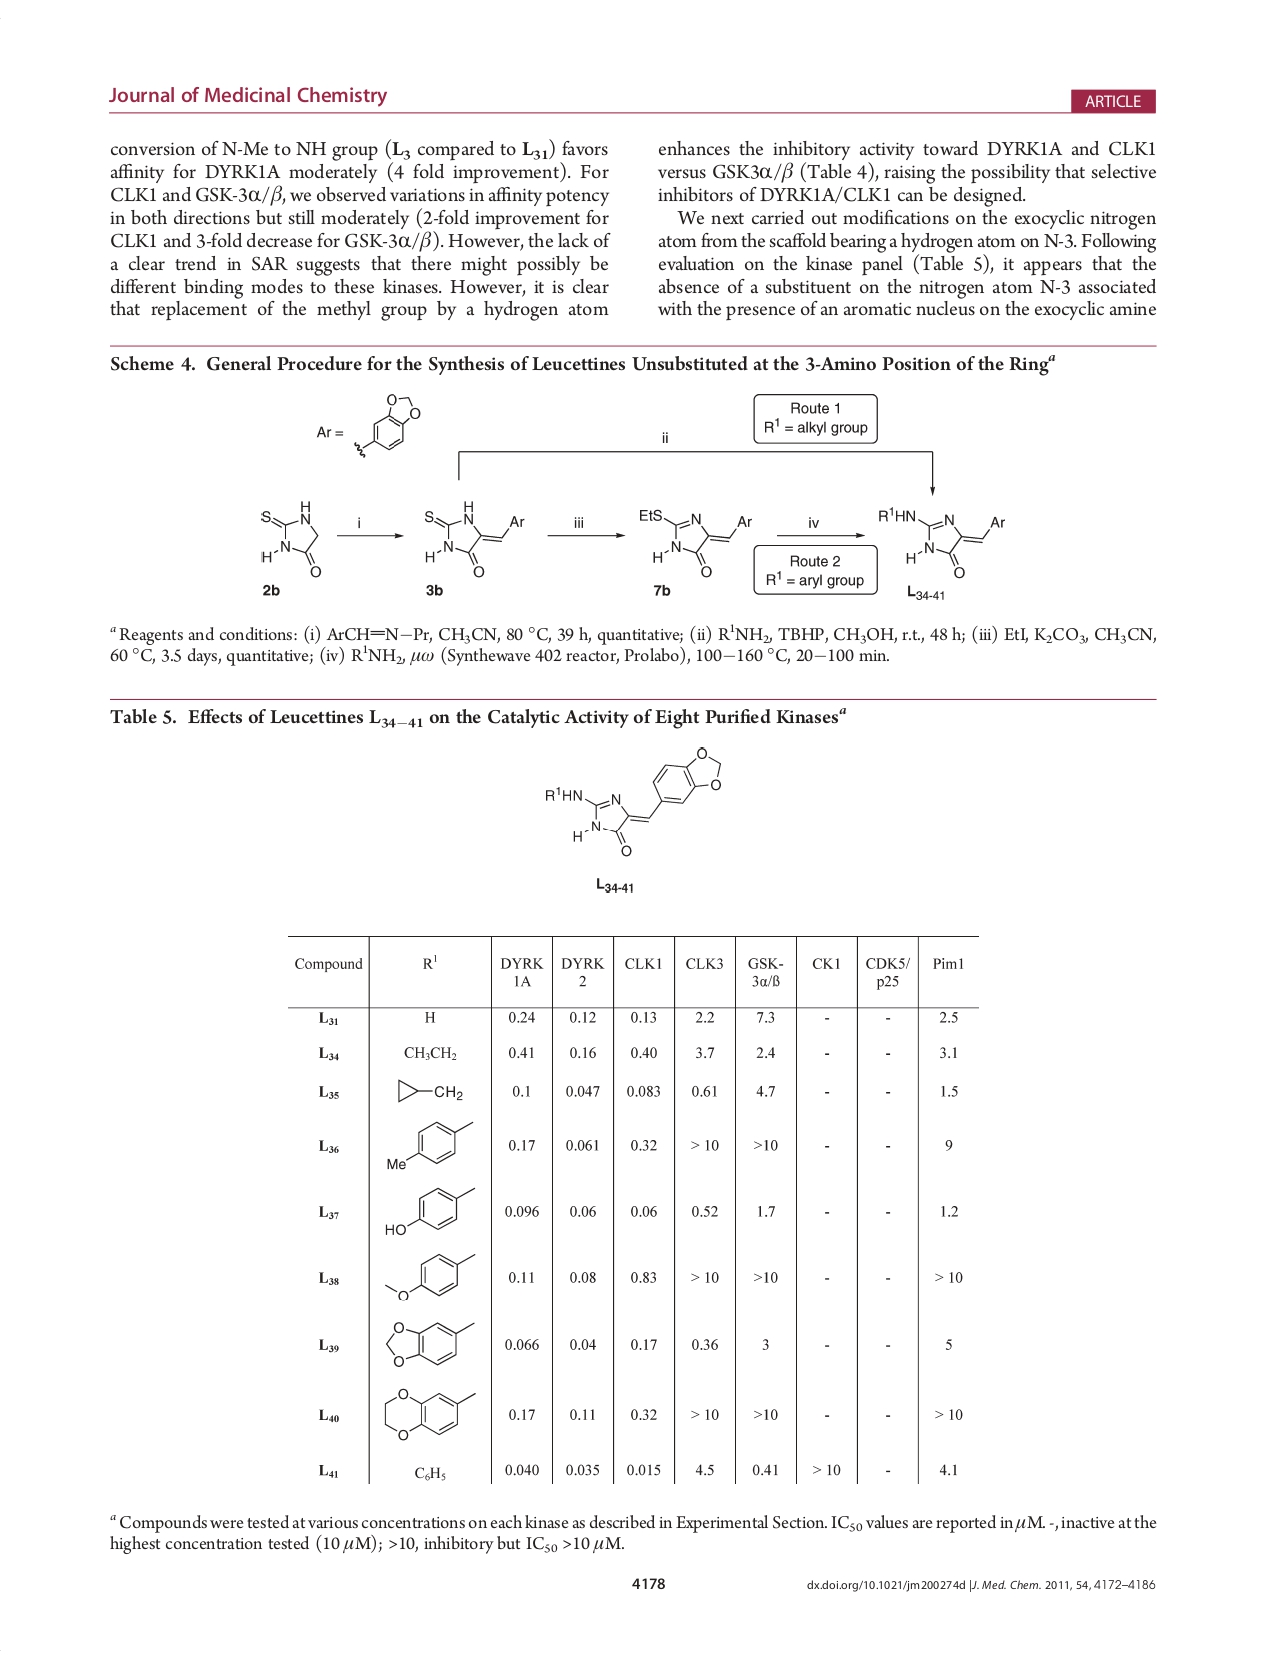exist_molecular: (543, 745, 725, 860), (875, 499, 1007, 581), (636, 501, 754, 581), (422, 493, 527, 580), (255, 493, 327, 581), (380, 1383, 477, 1443), (380, 1251, 477, 1305), (382, 1118, 477, 1172), (351, 390, 422, 461), (383, 1315, 477, 1368), (383, 1185, 476, 1237), (390, 1076, 465, 1104)
